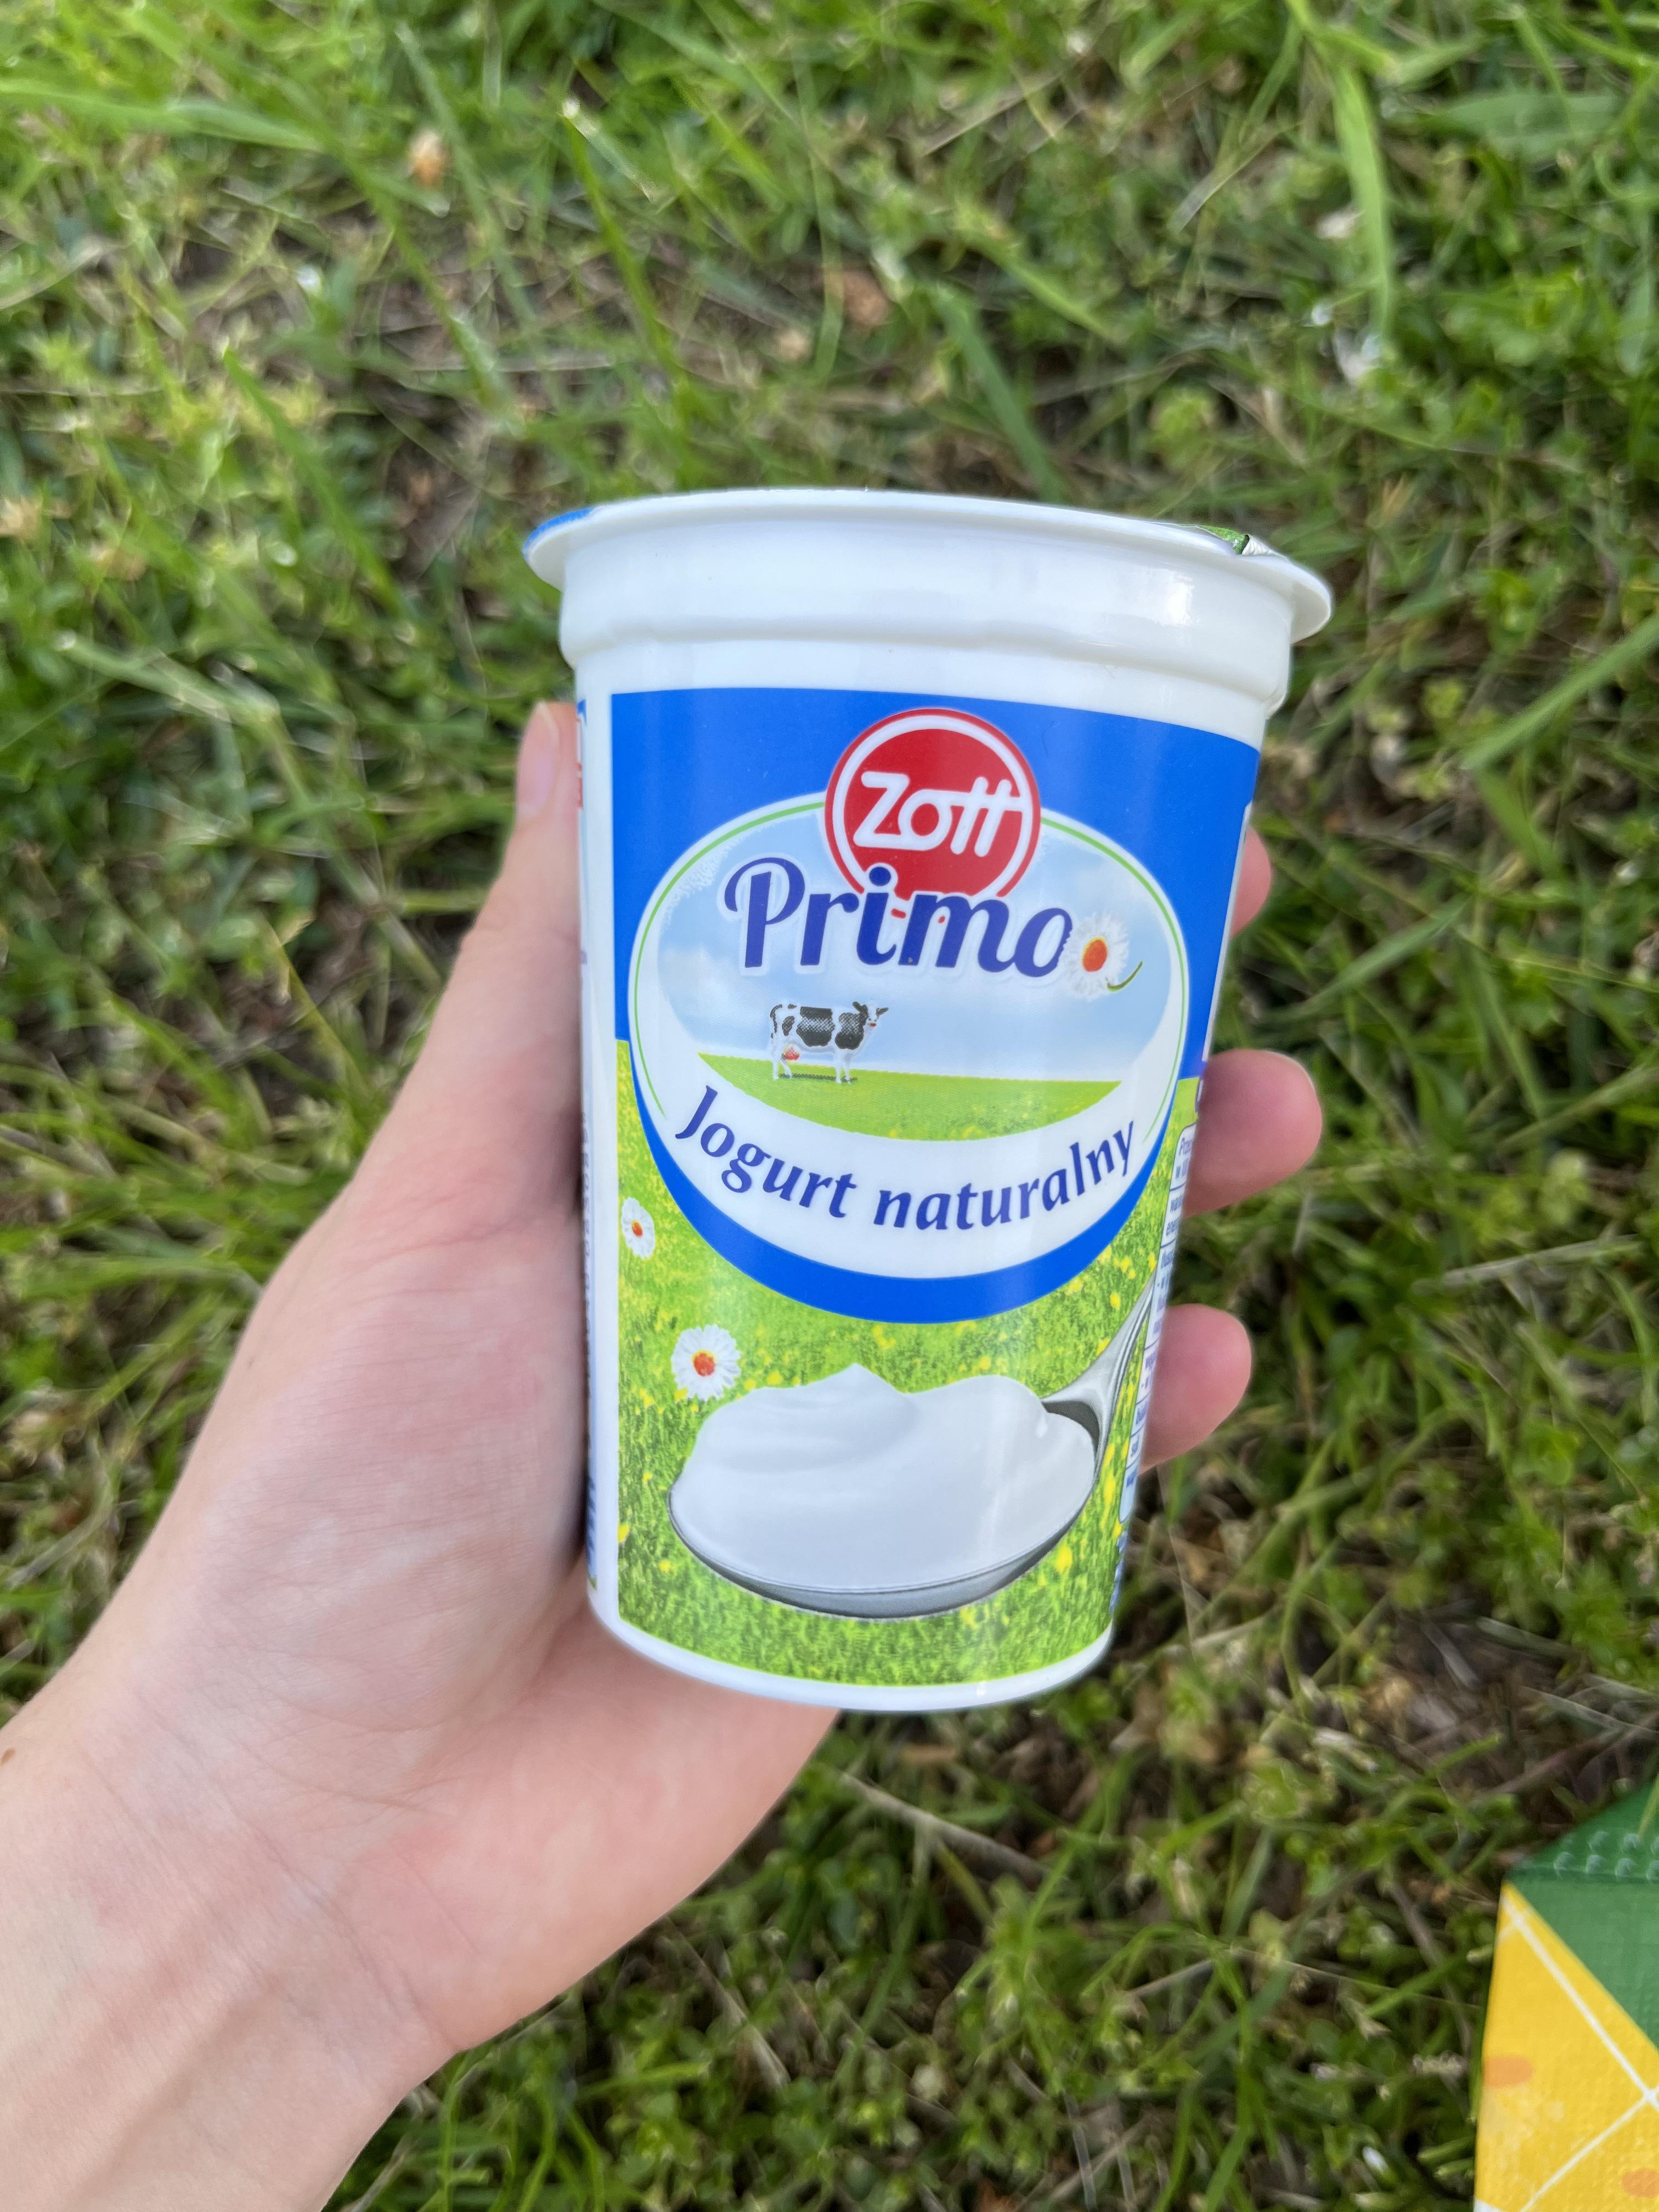Yogurt: (525, 472, 1335, 1716)
